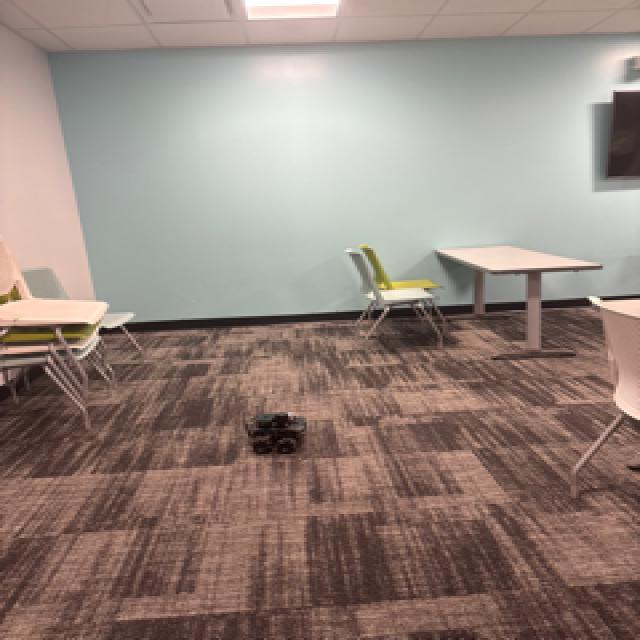ArduinoCar3: (240, 410, 309, 455)
